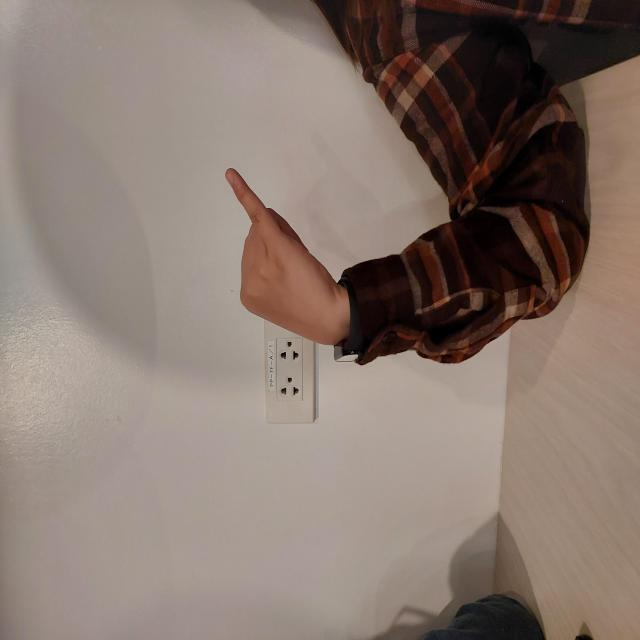J: (290, 222, 476, 346)
